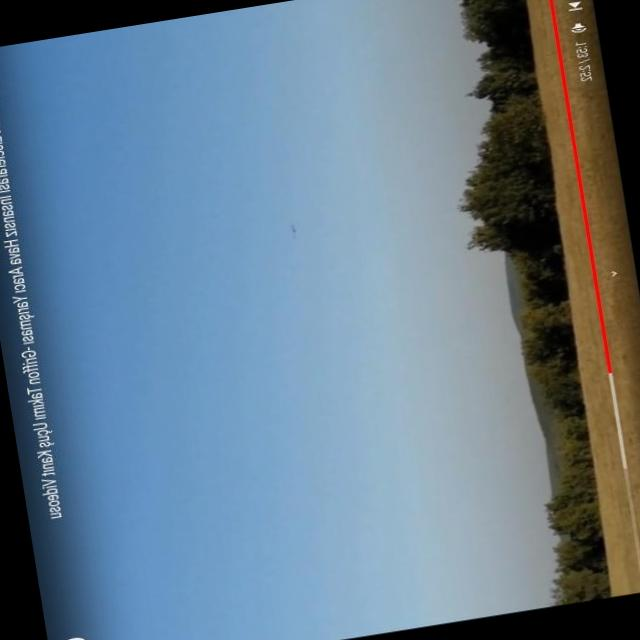UAV: (276, 218, 310, 246)
